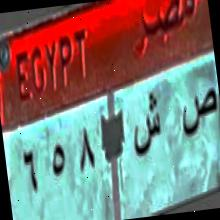5: (47, 138, 71, 189)
6: (18, 140, 44, 204)
8: (74, 122, 98, 176)
saad: (175, 80, 220, 141)
sheen: (127, 92, 166, 166)
